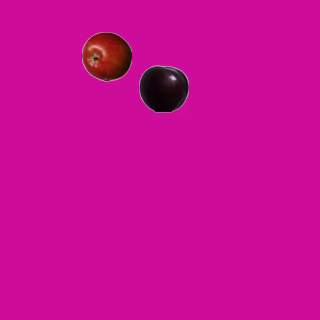Apple Braeburn: (81, 31, 131, 81)
Cherry Wax Black: (138, 63, 188, 113)
